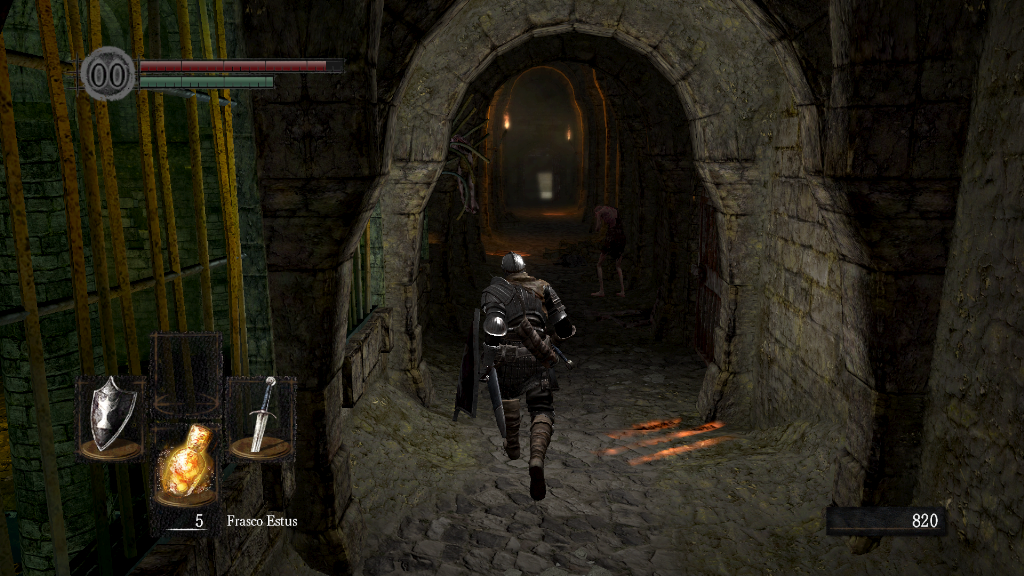health: (138, 58, 343, 71)
hollow: (590, 200, 629, 298)
humanity: (80, 45, 136, 102)
player: (452, 250, 578, 503)
souls: (825, 506, 945, 536)
stamina: (138, 74, 274, 88)
